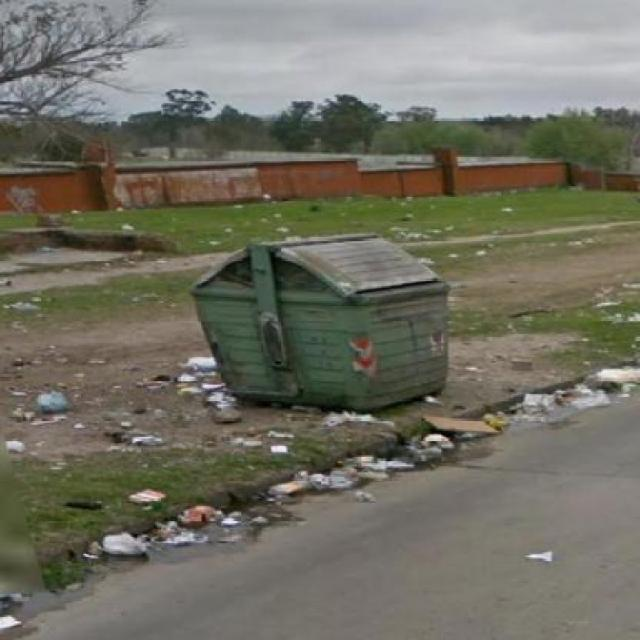garbage: (180, 351, 249, 435), (282, 449, 408, 492), (400, 403, 504, 443), (548, 362, 640, 399), (34, 491, 123, 528), (15, 375, 74, 423), (92, 523, 154, 559), (511, 389, 558, 426), (8, 295, 40, 320)
